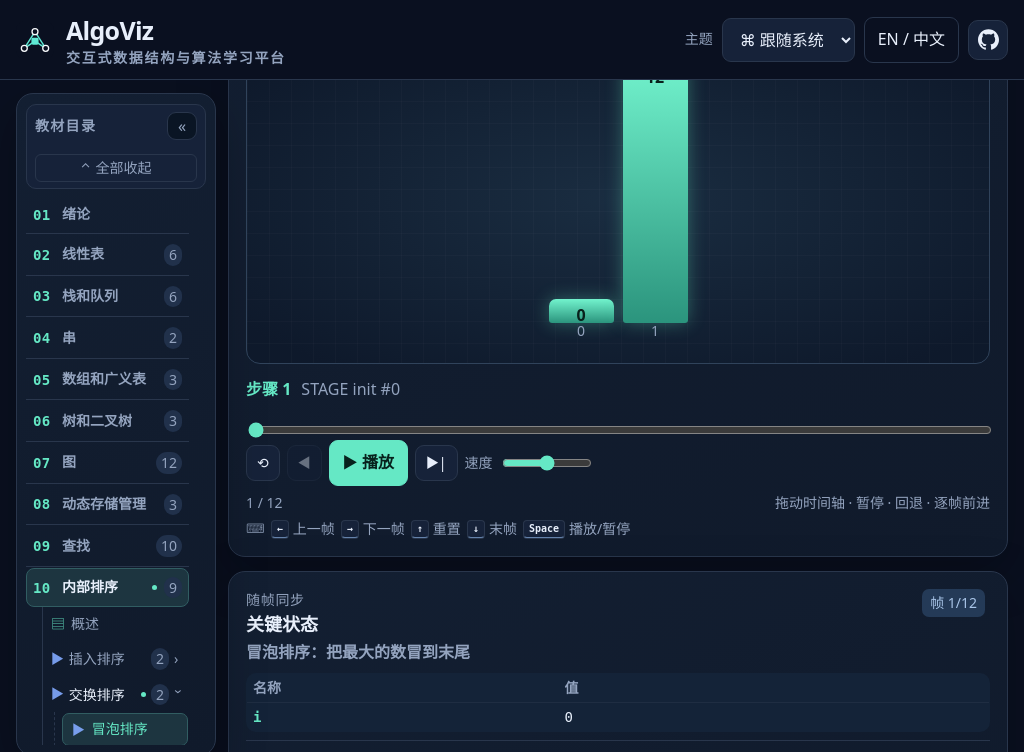
Scenario: Stage 3B — teaching steps follow the single timeline cursor › timeline → lesson: scrubbing and stepping update the highlighted stage
(page scrolled)
Check: the text with test id "progress" reads "1 / 12", box [246,493,282,512]
Set the slider with test id "scrub" to "2" at (388, 430), box [248,422,992,438]
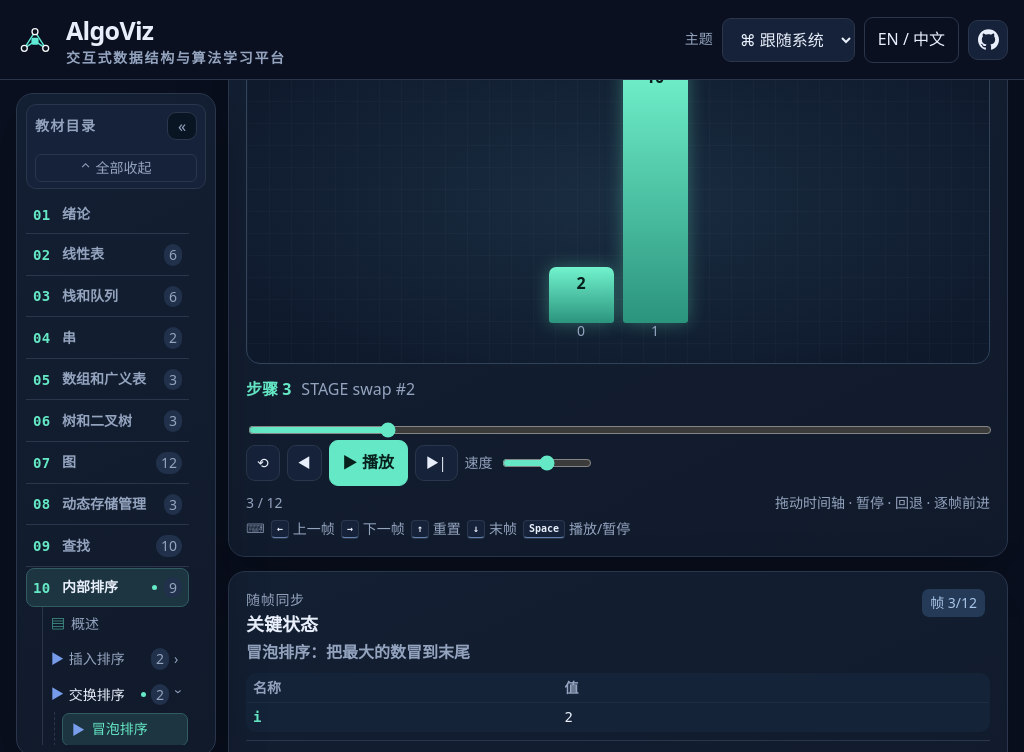
Check: the text with test id "progress" reads "3 / 12", box [246,493,282,512]
Click the button with test id "next-btn" at (436, 463), box [415,444,458,481]
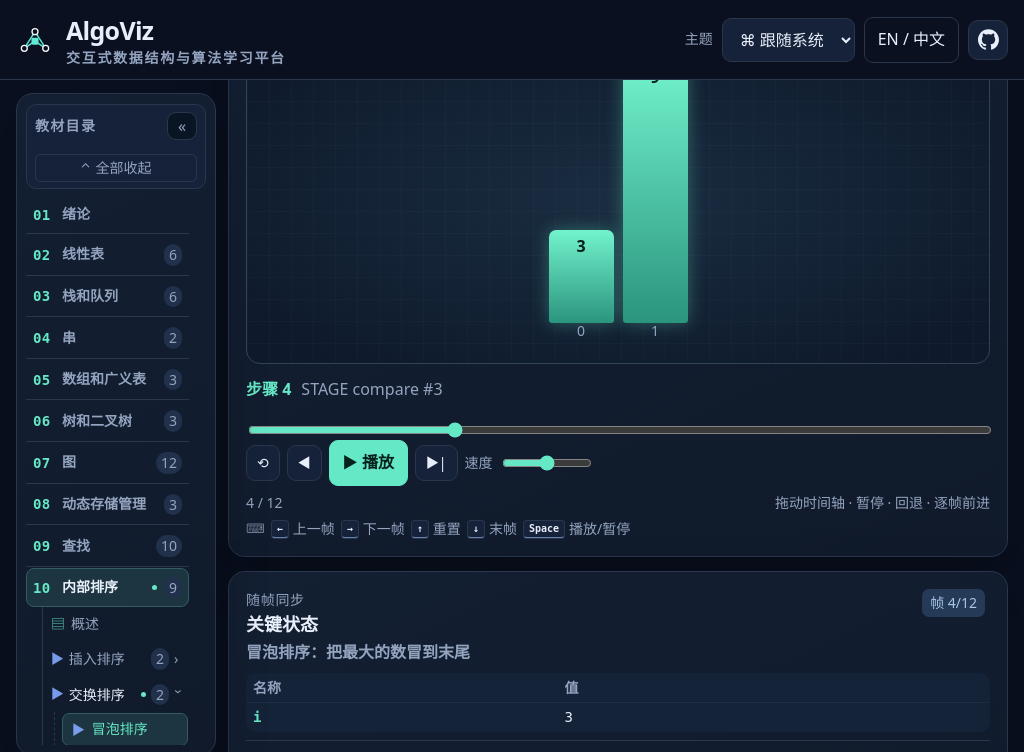
Check: the text with test id "progress" reads "4 / 12", box [246,493,282,512]
Click the button with test id "prev-btn" at (304, 463), box [287,444,322,481]
(page scrolled)
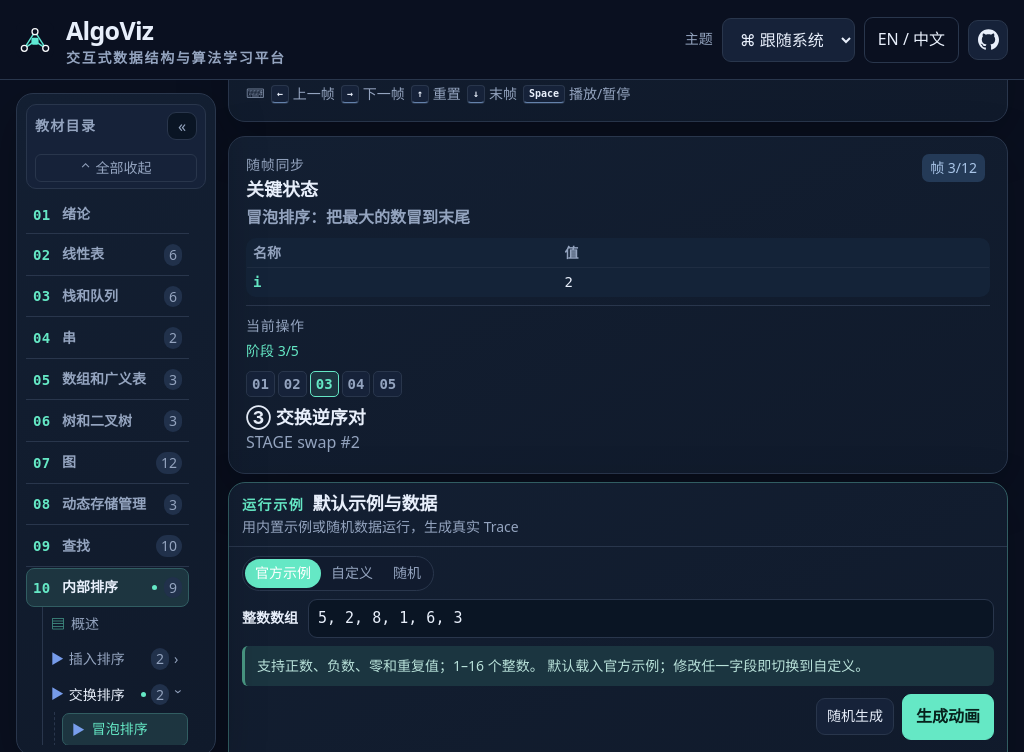
Check: the text with test id "progress" reads "3 / 12", box [246,58,282,77]
Check: the element with test id "lesson-active-step" has attribute data-step-id="swap", box [246,405,366,453]
